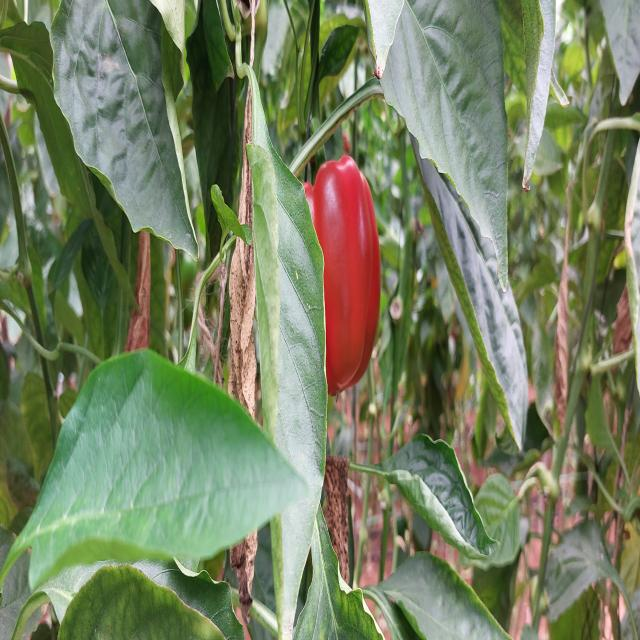Red-Ready-to-Harvest: (278, 153, 386, 407)
